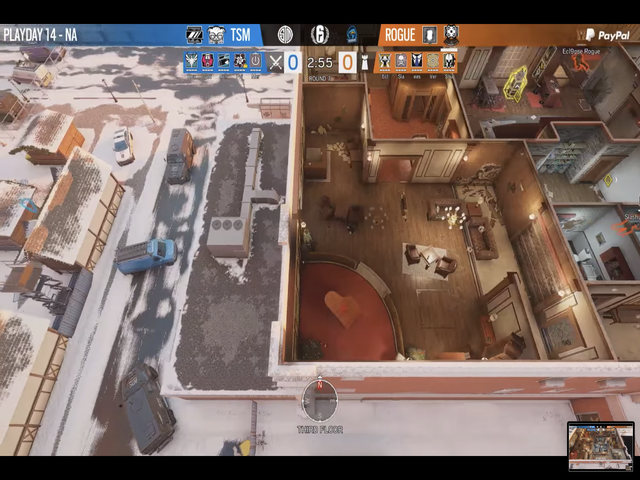0_blue: (283, 49, 304, 75)
